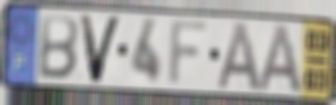4: (128, 15, 164, 90)
A: (255, 22, 305, 95), (214, 20, 264, 93)
B: (36, 13, 81, 82)
F: (166, 18, 213, 89)
V: (77, 12, 125, 86)
